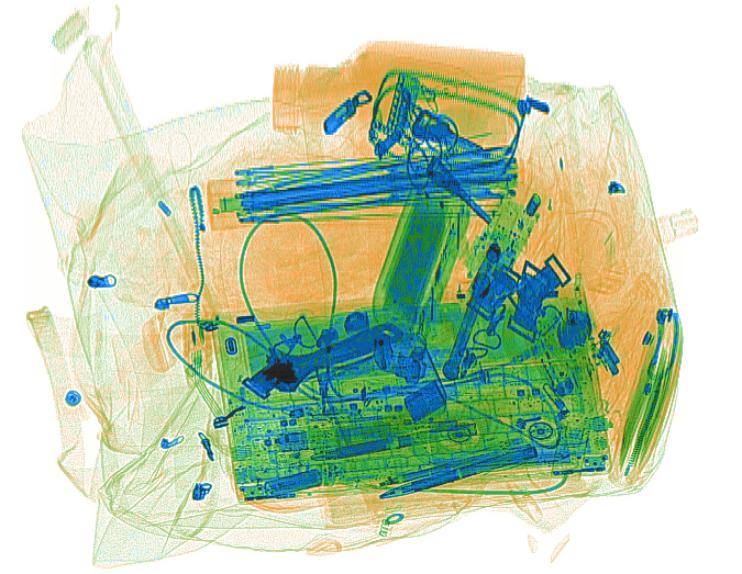battery: (260, 467, 324, 498)
